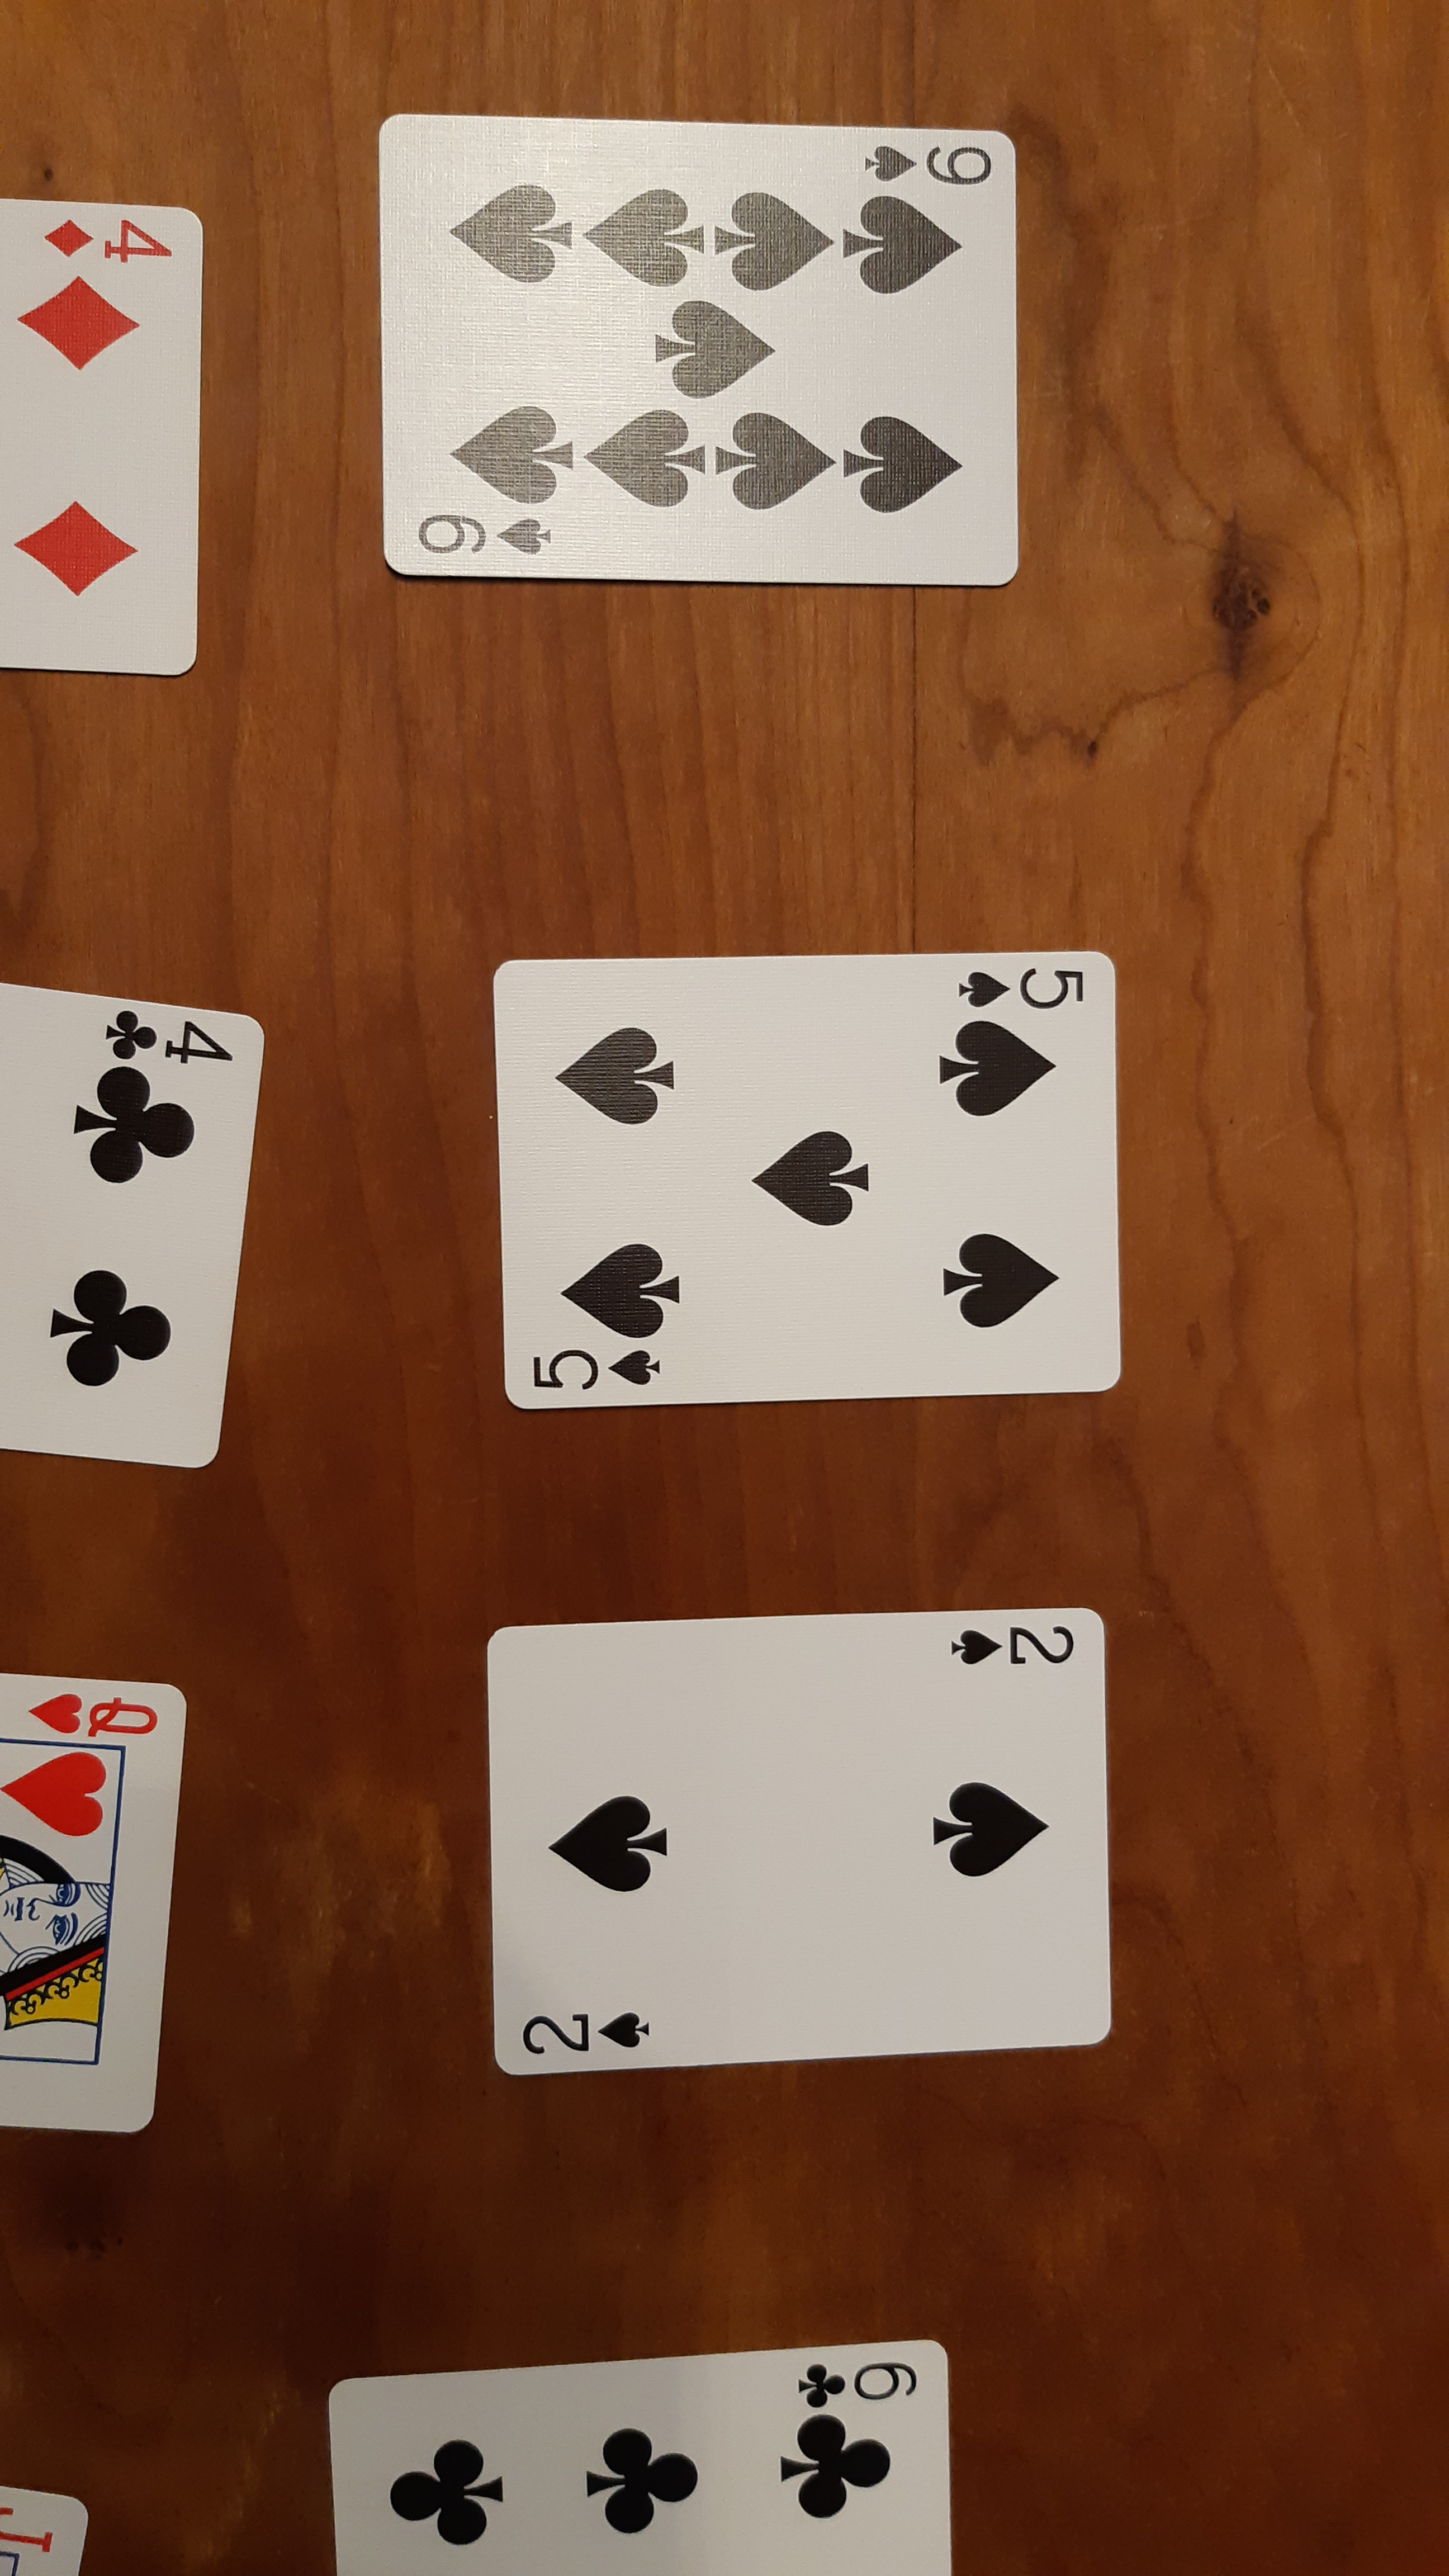Black_Club_4: (88, 1001, 232, 1079)
Black_Club_6: (359, 2353, 938, 2569)
Black_Spade_2: (515, 2001, 662, 2070), (927, 1614, 1081, 1670)
Black_Spade_5: (515, 1341, 671, 1405), (945, 955, 1100, 1019)
Black_Spade_9: (395, 129, 1003, 573)
Red_Diamond_4: (35, 203, 186, 269)
Red_Heart_Queen: (23, 1677, 159, 1748)
